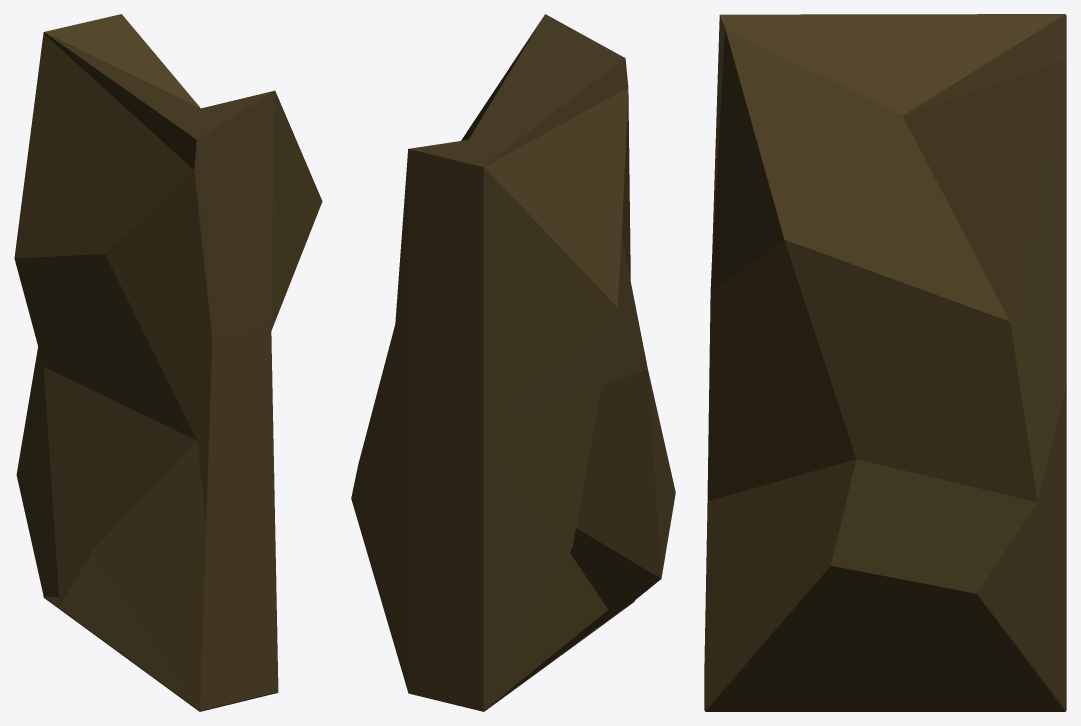
File: Brickwall.fbx
3 views of the same model, side by side, from view 1: azimuth 30°, elevation 25°; view 2: azimuth 150°, elevation 25°; view 3: azimuth 270°, elevation 25° (orthographic). The views are drawn at different scales.
Parts seen in each view (by area): view 1: Cube.003; view 2: Cube.003; view 3: Cube.003.
Part boxes in pixels (box(x1,y1,x2,y2)): Cube.003: box(14, 14, 322, 711); Cube.003: box(351, 14, 675, 711); Cube.003: box(704, 14, 1066, 711).
Bounding box in the file's own units: 1411 × 1357 × 2954.
